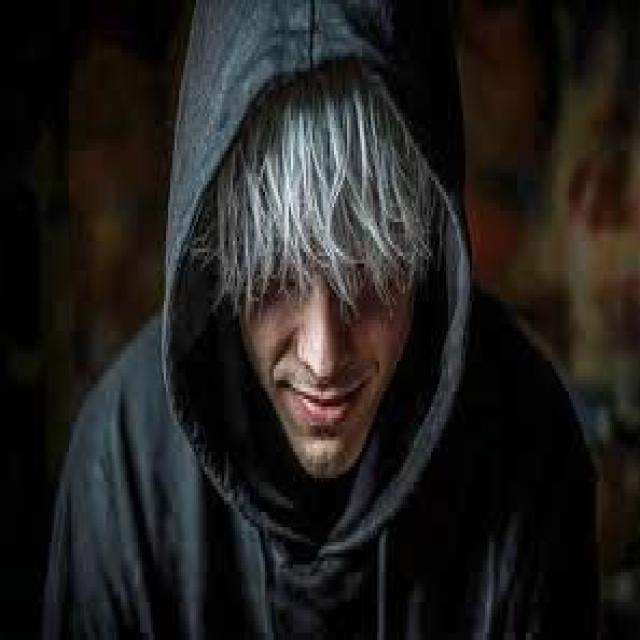4_capucha: (159, 0, 472, 557)
